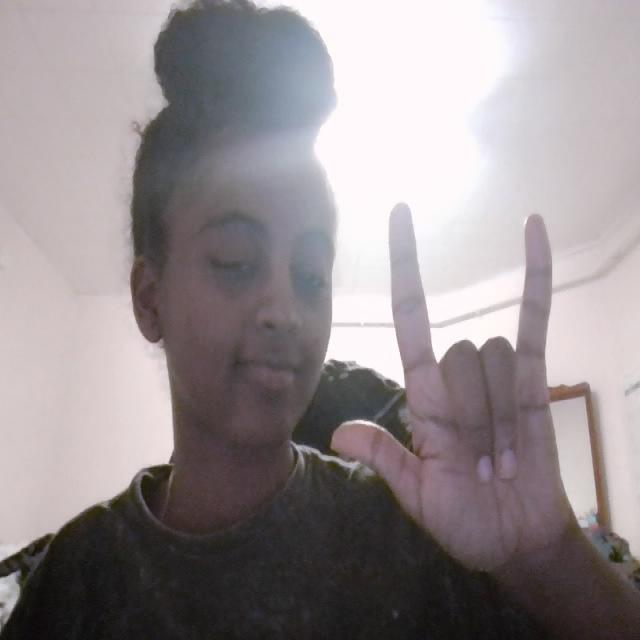iloveyou: (321, 176, 635, 576)
